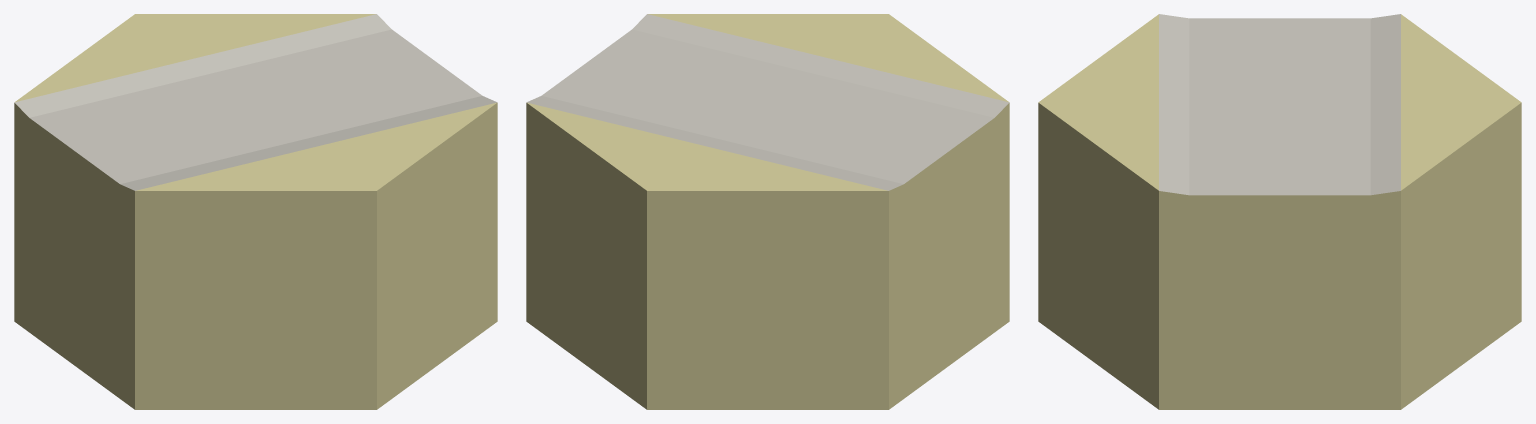
Rendered from sand_road1.fbx.
3 views of the same model, side by side, from view 1: azimuth 30°, elevation 25°; view 2: azimuth 150°, elevation 25°; view 3: azimuth 270°, elevation 25° (orthographic).
Visible parts, largest first — view 1: Cylinder; view 2: Cylinder; view 3: Cylinder.
Boxes of the visible parts, <box> form: Cylinder: <box>14,14,497,409</box>; Cylinder: <box>526,14,1009,409</box>; Cylinder: <box>1038,14,1521,409</box>.
Size of the model in its own units: 1.73 by 1 by 2.
